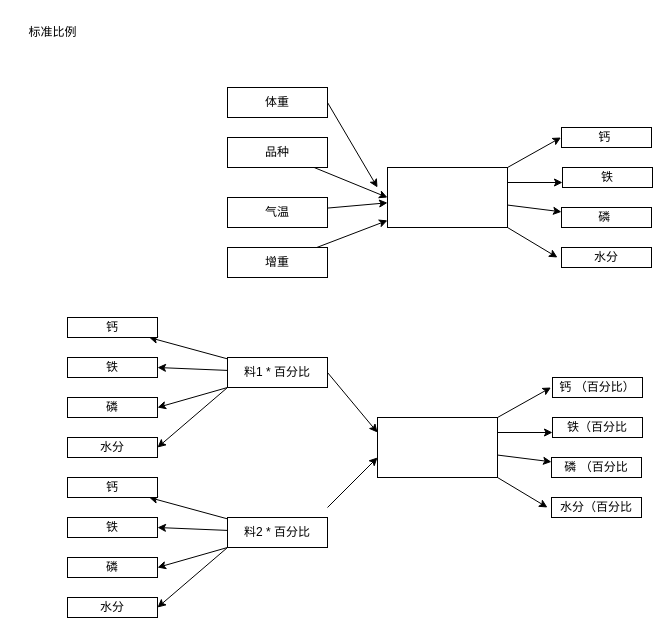
Some shapes in this 670 by 635 pixel diagram are drawn without their labels. Each missing label, with the centre of its shape:
"牛的需求" belongs at point 447,197.
"饲料" belongs at point 437,447.
